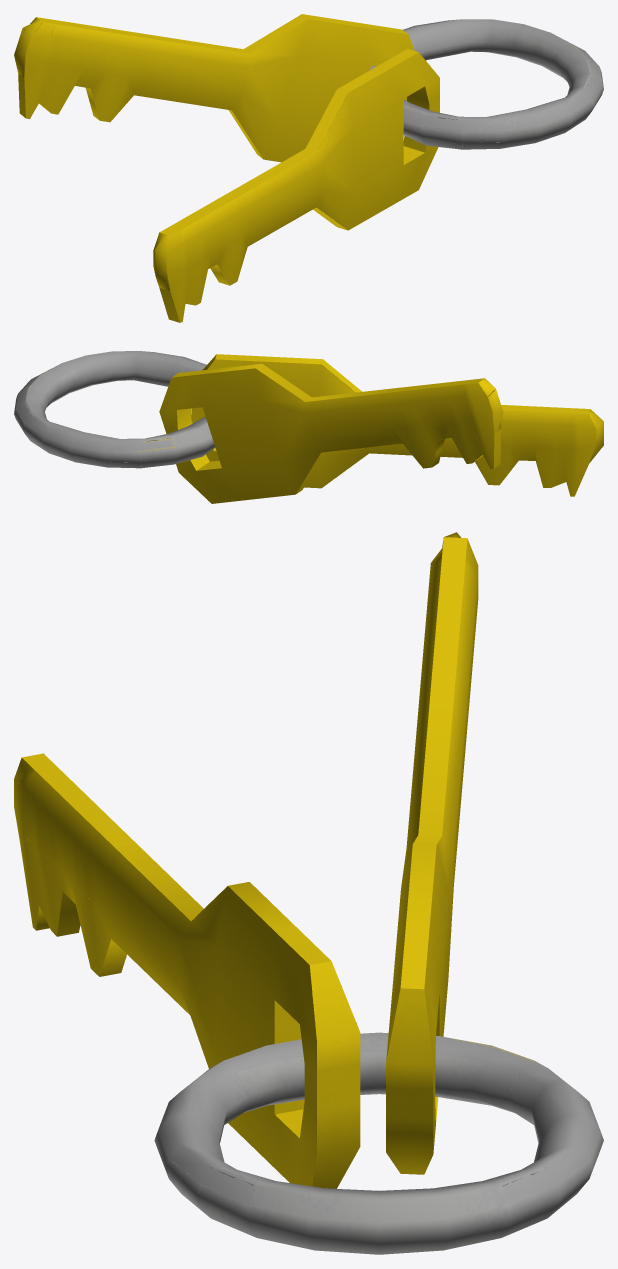
File: Keys Textured.fbx
The picture shows the model from 3 angles, top to bottom: view 1: azimuth 30°, elevation 25°; view 2: azimuth 150°, elevation 25°; view 3: azimuth 270°, elevation 25°; orthographic projection. The views are drawn at different scales.
Visible parts, largest first — view 1: pCube3; view 2: pCube3; view 3: pCube3.
Part boxes in pixels (x1,y1,x2,y2): pCube3: (14,14,603,322); pCube3: (14,351,603,503); pCube3: (14,532,603,1254).
Bounding box in the file's own units: 5.3 × 2.04 × 2.86.
1 material, 1 textured.
